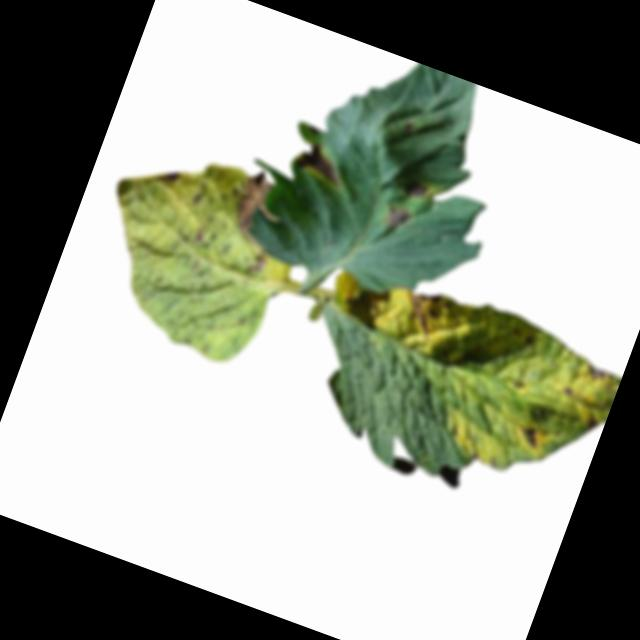Early_blight: (214, 166, 296, 279), (290, 137, 351, 189), (402, 287, 456, 342), (381, 204, 414, 236), (513, 421, 545, 453), (403, 179, 431, 205), (157, 164, 184, 189), (585, 363, 609, 385), (193, 223, 211, 247)
